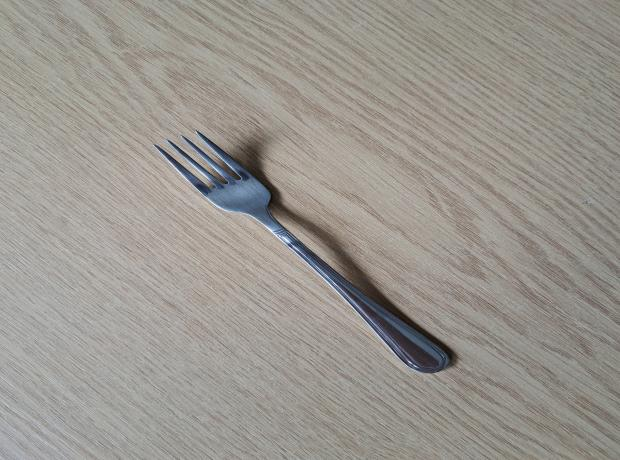metal: (153, 127, 452, 373)
